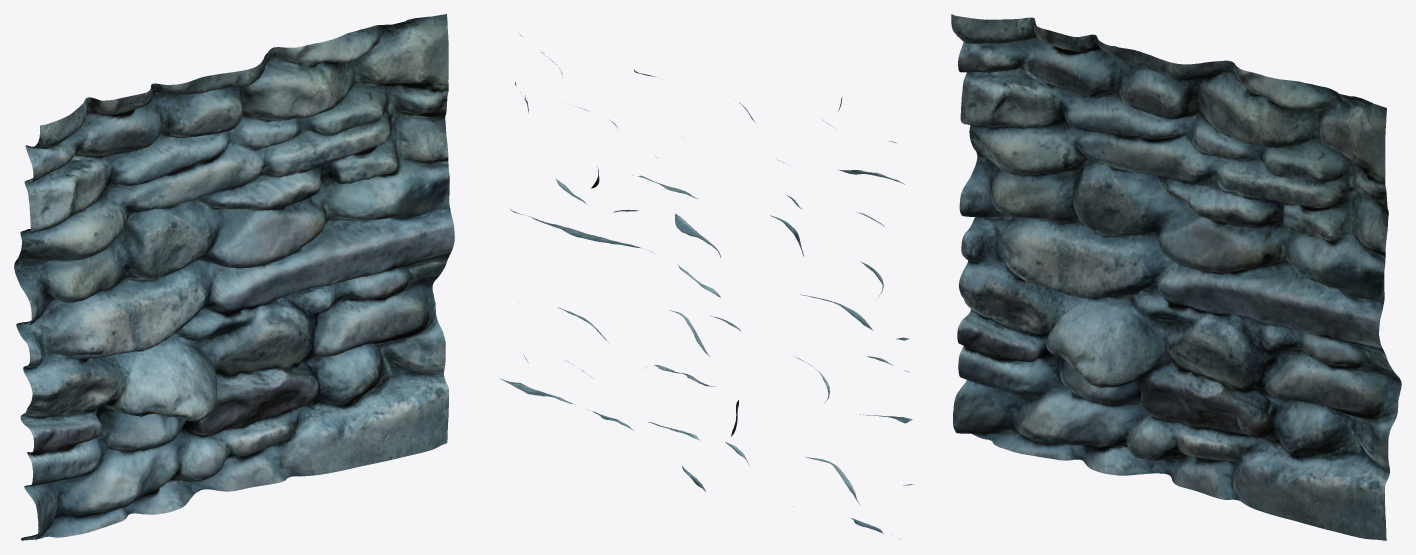
Rendered from Cool-Cobblestone.glb.
3 renders of one model, left to right at view 1: azimuth 30°, elevation 25°; view 2: azimuth 150°, elevation 25°; view 3: azimuth 330°, elevation 25°, orthographic. The views are drawn at different scales.
Visible parts, largest first — view 1: mesh; view 2: mesh; view 3: mesh.
Part boxes in pixels (x1,y1,x2,y2): mesh: [14, 14, 454, 540]; mesh: [500, 33, 913, 538]; mesh: [951, 14, 1401, 540].
Size of the model in its own units: 0.7221 by 0.7053 by 0.1156.
Materials: 1 (1 with a texture image).
